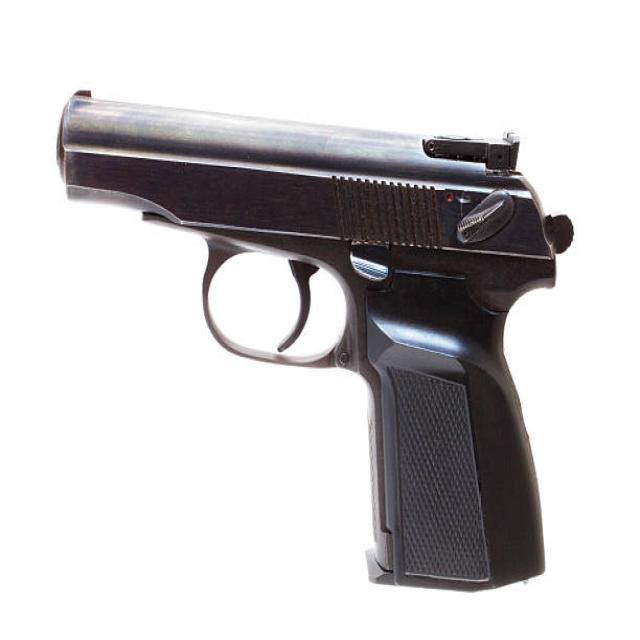pistol: (45, 81, 587, 596)
